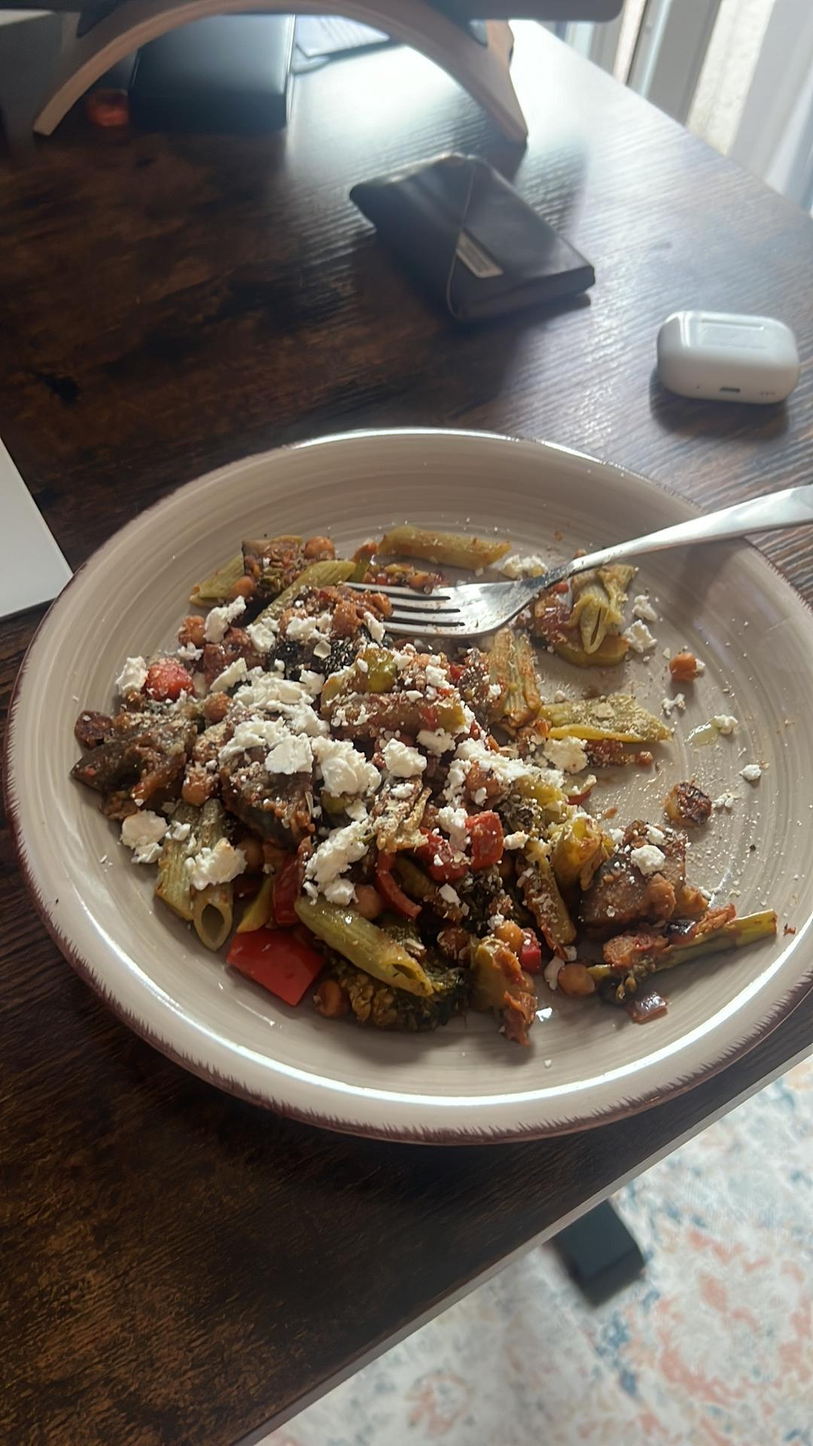bell pepper: (215, 925, 329, 1007), (376, 851, 423, 918), (270, 861, 302, 924)
broccoli: (600, 903, 781, 1008), (340, 966, 482, 1033)
